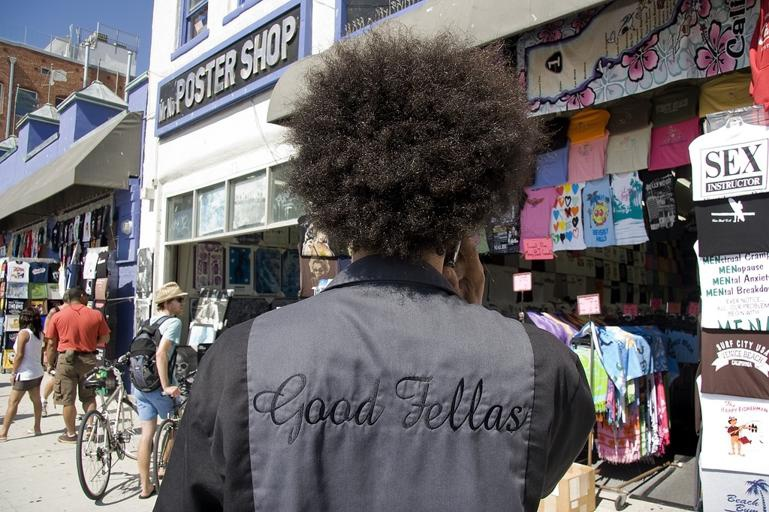non-vehicle: (74, 350, 141, 501), (151, 369, 196, 495)
